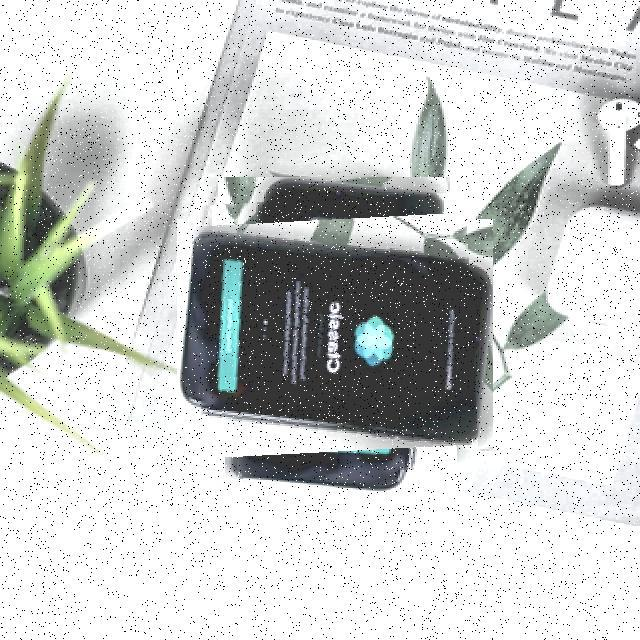Phone: (194, 194, 476, 476)
